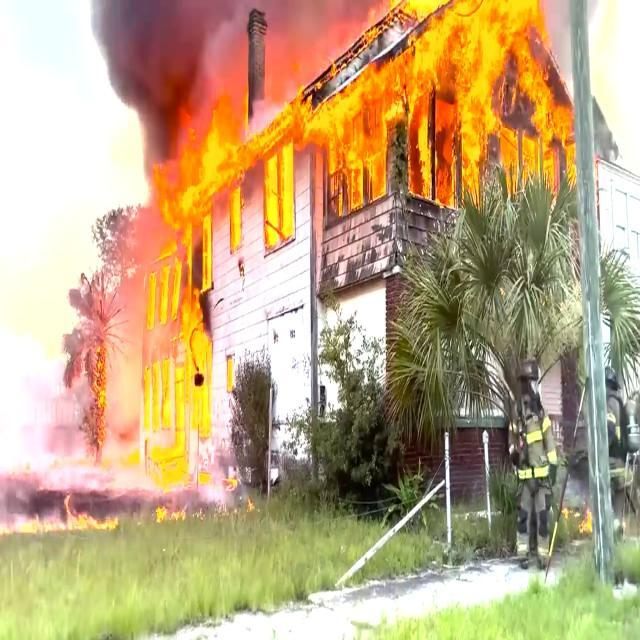Fire: (410, 0, 519, 98), (159, 100, 308, 156), (318, 110, 359, 212), (186, 304, 216, 435), (524, 54, 570, 136), (158, 165, 238, 202), (359, 99, 387, 192), (403, 86, 428, 186), (436, 102, 453, 212), (267, 159, 290, 234), (160, 366, 178, 440), (468, 104, 478, 202), (152, 451, 180, 486), (201, 218, 214, 288), (144, 367, 154, 438), (160, 266, 169, 318), (231, 197, 240, 242), (173, 262, 180, 314), (148, 273, 154, 317)
Smoke: (74, 0, 224, 83)
